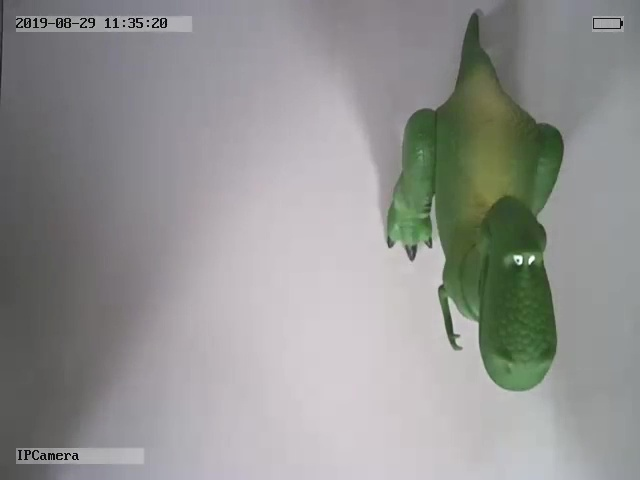rex: (386, 10, 565, 398)
